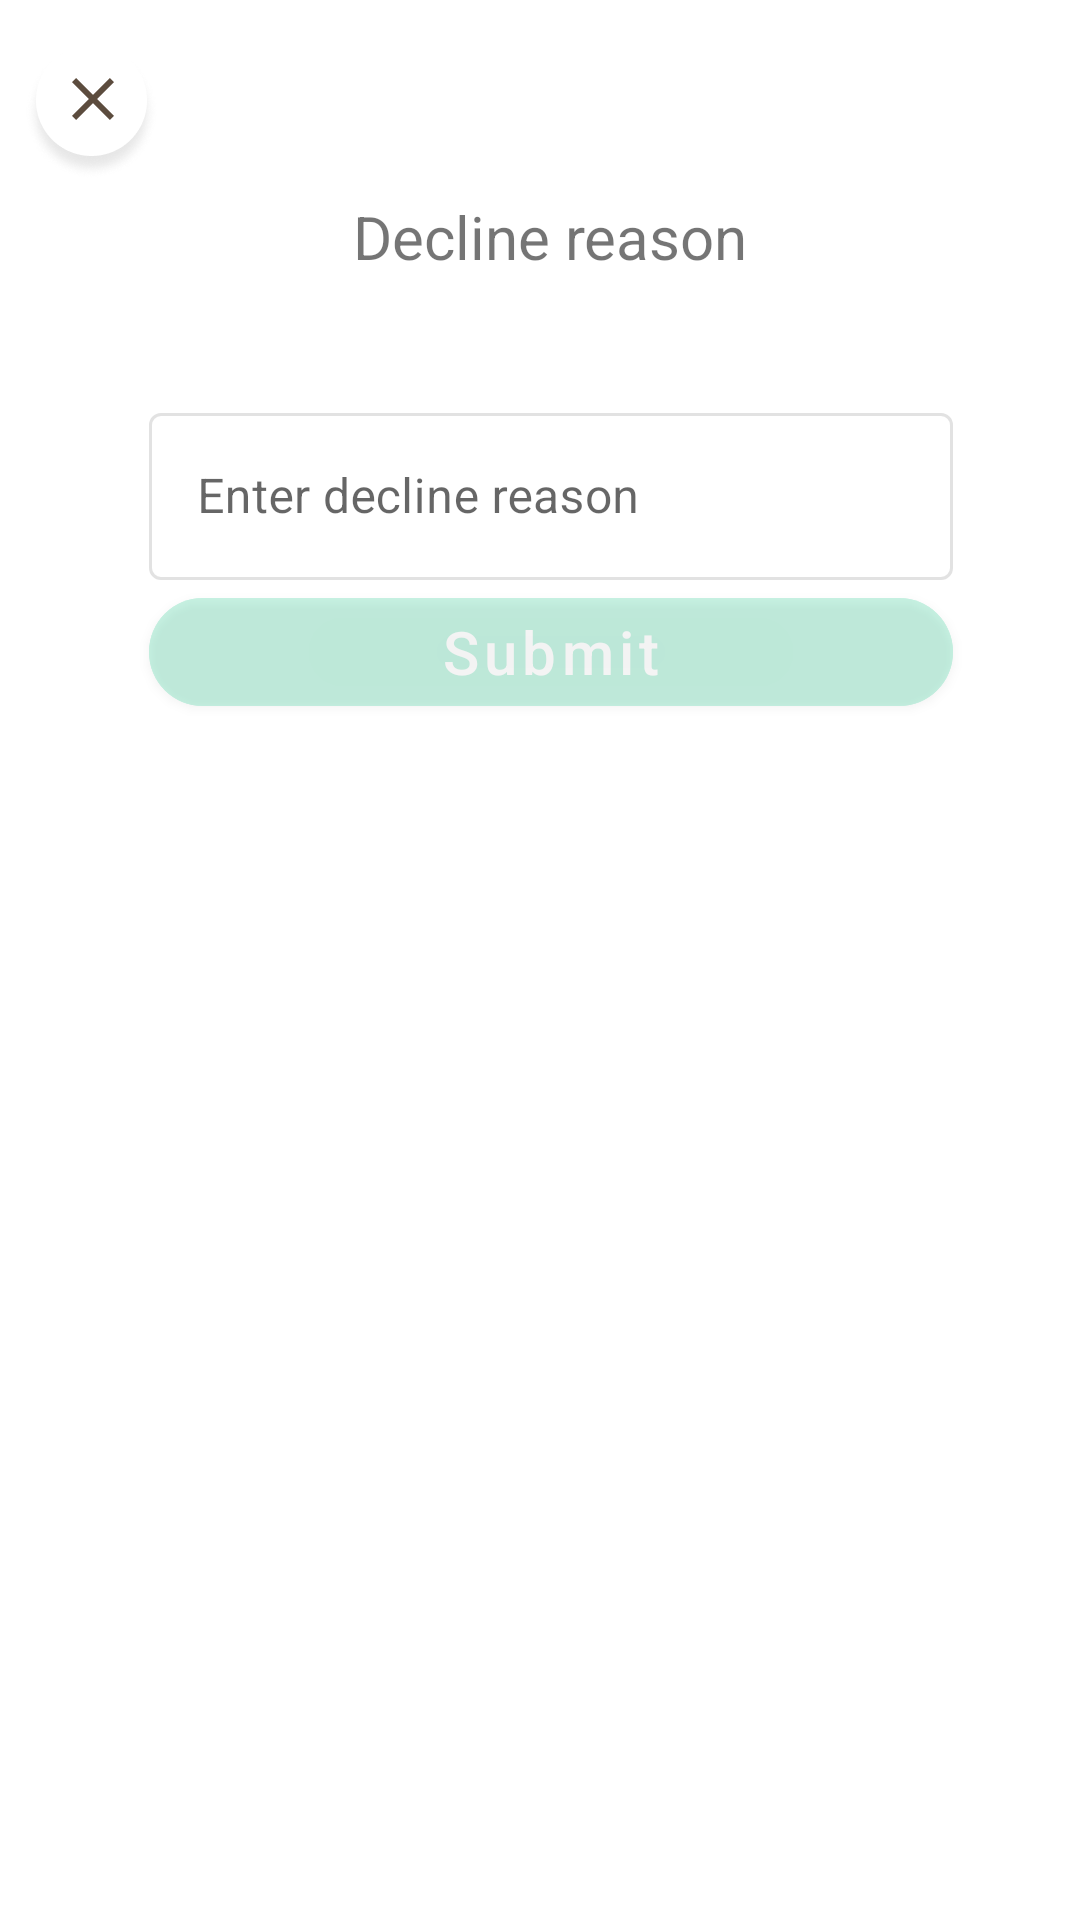

Where icons sit on this 1080x1920 app screen, as (x1, y1, x2, y2):
close round: (70, 78, 114, 159)
